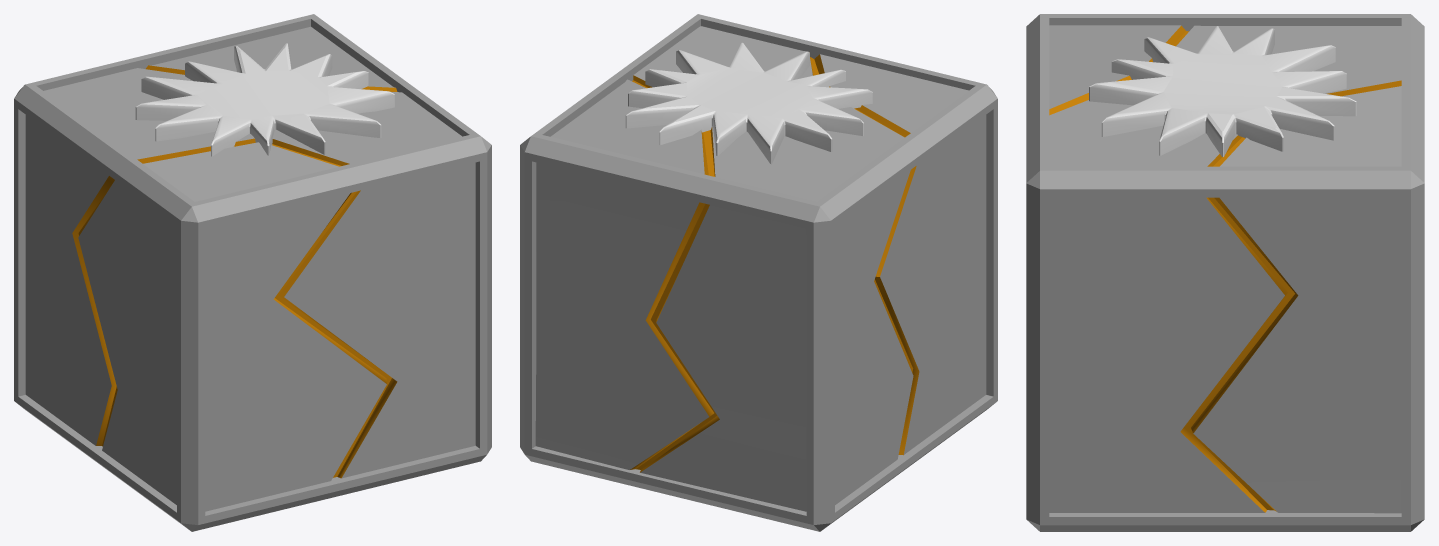
The model's file is SM_ExplosiveCube.fbx.
3 renders of one model, left to right at view 1: azimuth 30°, elevation 25°; view 2: azimuth 150°, elevation 25°; view 3: azimuth 270°, elevation 25°, orthographic. The views are drawn at different scales.
Visible parts, largest first — view 1: pCube3, pCube10, Explosion; view 2: pCube3, pCube10, Explosion; view 3: pCube3, pCube10, Explosion.
Part boxes in pixels (x1,y1,x2,y2): pCube3: [25, 26, 475, 511]; pCube10: [14, 14, 491, 531]; Explosion: [135, 43, 394, 156]; pCube3: [535, 26, 986, 511]; pCube10: [520, 14, 997, 531]; Explosion: [625, 42, 872, 163]; pCube3: [1049, 25, 1401, 513]; pCube10: [1026, 14, 1424, 531]; Explosion: [1089, 26, 1356, 156].
Bounding box in the file's own units: 52.55 × 54.95 × 52.55.
